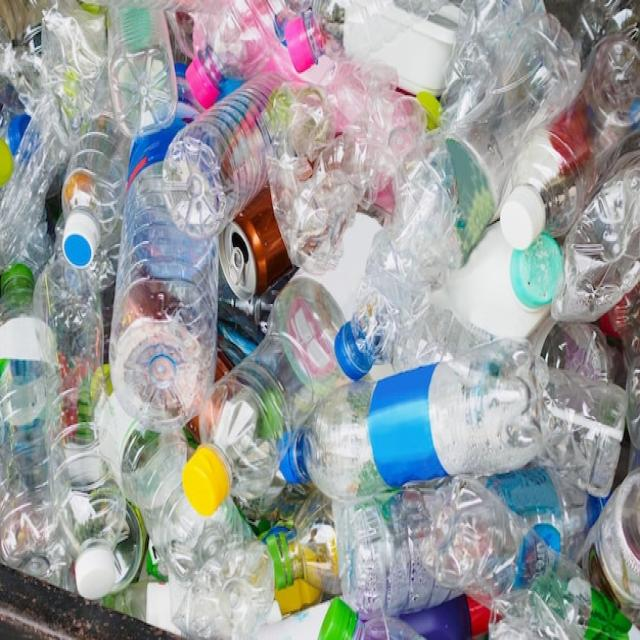plastic_bottle: (329, 3, 589, 390), (276, 333, 550, 515), (167, 275, 343, 543), (99, 118, 219, 444)
